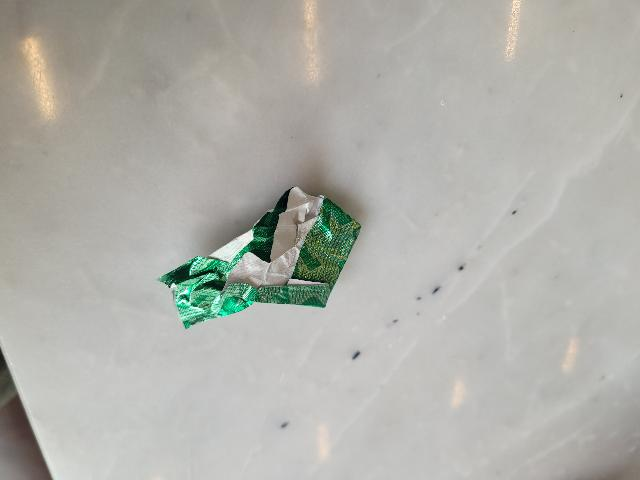Kagit: (159, 179, 374, 341)
